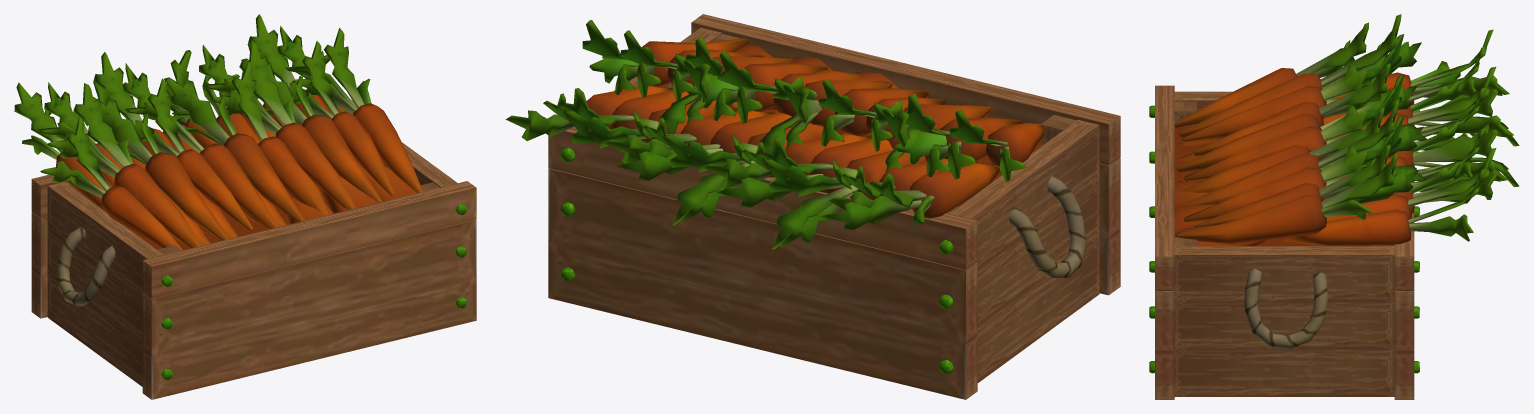
File: FarmCrate_Carrot.gltf
The picture shows the model from 3 angles, left to right: view 1: azimuth 30°, elevation 25°; view 2: azimuth 150°, elevation 25°; view 3: azimuth 270°, elevation 25°; orthographic projection. The views are drawn at different scales.
Parts seen in each view (by area): view 1: FarmCrate_Carrot; view 2: FarmCrate_Carrot; view 3: FarmCrate_Carrot.
Boxes of the visible parts, box(x1,y1,x2,y2) form: FarmCrate_Carrot: box(14, 14, 476, 399); FarmCrate_Carrot: box(506, 14, 1120, 399); FarmCrate_Carrot: box(1149, 14, 1519, 399).
Bounding box in the file's own units: 0.7138 × 0.4113 × 0.567.
3 materials, 3 textured.
